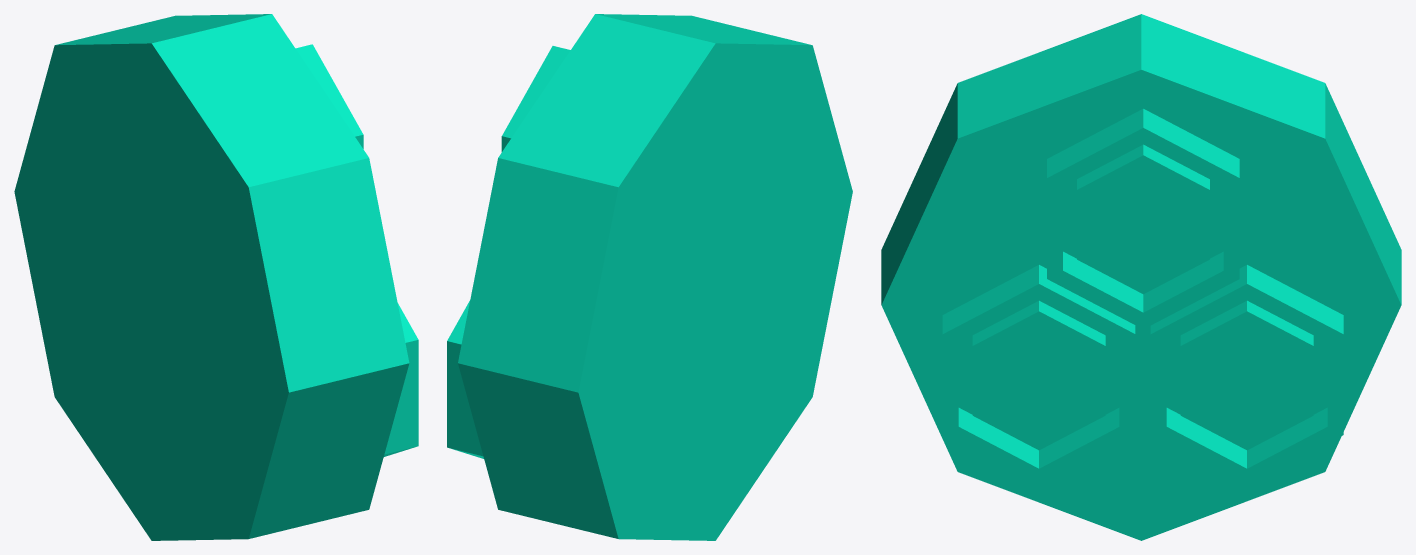
The model's file is outlet_r_5.glb.
The picture shows the model from 3 angles, left to right: view 1: azimuth 30°, elevation 25°; view 2: azimuth 150°, elevation 25°; view 3: azimuth 270°, elevation 25°; orthographic projection. The views are drawn at different scales.
Visible parts, largest first — view 1: Cylinder.018; view 2: Cylinder.018; view 3: Cylinder.018.
Part boxes in pixels (left/top/right/bottom): Cylinder.018: left=14, top=14, right=418, bottom=540; Cylinder.018: left=447, top=14, right=852, bottom=540; Cylinder.018: left=881, top=14, right=1401, bottom=540.
Size of the model in its own units: 0.1118 by 0.328 by 0.328.
